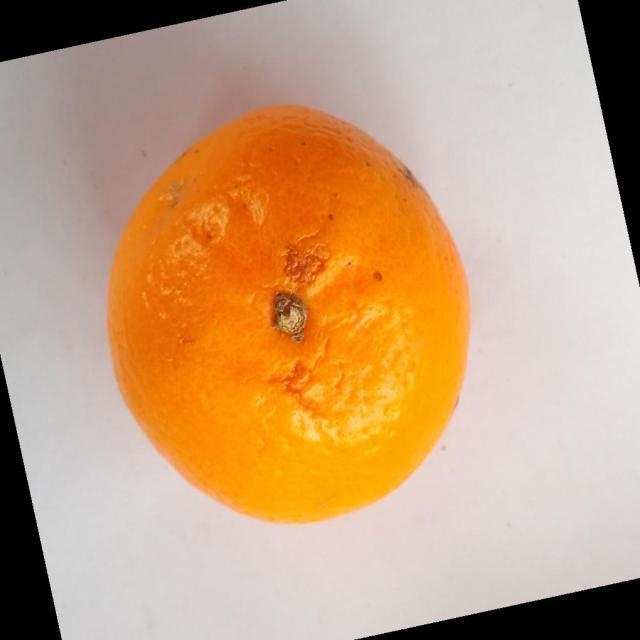agrume: (105, 102, 471, 525)
